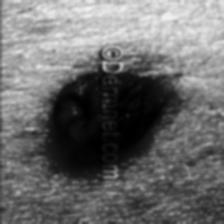Potentially Malignant Skin Tumors: (28, 68, 92, 172), (120, 60, 172, 165)
